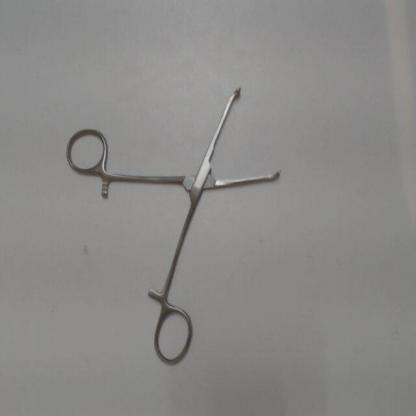Allis Tissue Forceps: (57, 75, 293, 371)
